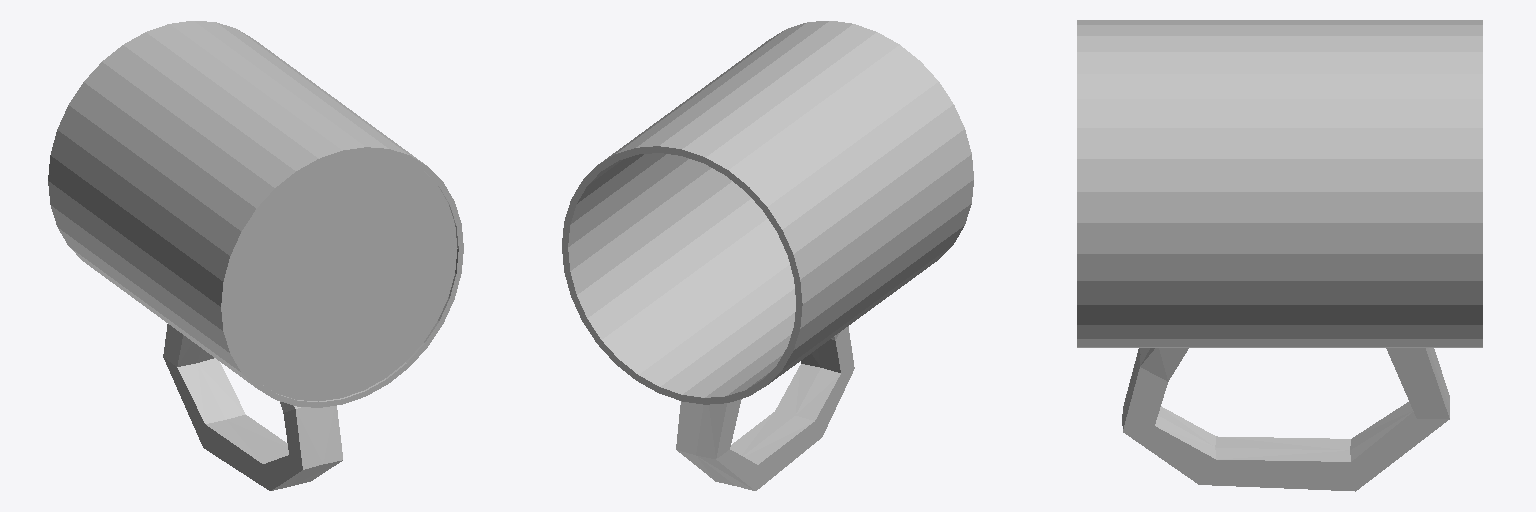
robot.urdf — mug_2_decomp:
<robot xmlns:drake="drake.mit.edu" name="mug_2_decomp">
  <link name="mug_2_decomp_body_link">
    <inertial>
      <origin xyz="4.60E-02 4.13E-02 -1.29E-01" rpy="0 0 0"/>
      <mass value="2.00E-01"/>
      <inertia ixx="3.4926E-04" ixy="-4.9590E-13" ixz="-2.1332E-11" iyy="2.9479E-04" iyz="-9.9779E-06" izz="2.4863E-04"/>
    </inertial>
    <visual>
      <origin xyz="0 0 0" rpy="0 0 0"/>
      <geometry>
        <mesh filename="mug_2_decomp_visual.obj" scale="1.0000E+00 1.0000E+00 1.0000E+00"/>
      </geometry>
      <material name="">
        <color rgba="8.00E-01 8.00E-01 8.00E-01 1.00E+00"/>
      </material>
    </visual>
    <collision>
      <origin xyz="0 0 0" rpy="0 0 0"/>
      <geometry>
        <mesh filename="mug_2_decomp_convex_piece_0.obj" scale="1.0000E+00 1.0000E+00 1.0000E+00">
          <drake:declare_convex/>
        </mesh>
      </geometry>
    </collision>
    <collision>
      <origin xyz="0 0 0" rpy="0 0 0"/>
      <geometry>
        <mesh filename="mug_2_decomp_convex_piece_1.obj" scale="1.0000E+00 1.0000E+00 1.0000E+00">
          <drake:declare_convex/>
        </mesh>
      </geometry>
    </collision>
    <collision>
      <origin xyz="0 0 0" rpy="0 0 0"/>
      <geometry>
        <mesh filename="mug_2_decomp_convex_piece_2.obj" scale="1.0000E+00 1.0000E+00 1.0000E+00">
          <drake:declare_convex/>
        </mesh>
      </geometry>
    </collision>
    <collision>
      <origin xyz="0 0 0" rpy="0 0 0"/>
      <geometry>
        <mesh filename="mug_2_decomp_convex_piece_3.obj" scale="1.0000E+00 1.0000E+00 1.0000E+00">
          <drake:declare_convex/>
        </mesh>
      </geometry>
    </collision>
    <collision>
      <origin xyz="0 0 0" rpy="0 0 0"/>
      <geometry>
        <mesh filename="mug_2_decomp_convex_piece_4.obj" scale="1.0000E+00 1.0000E+00 1.0000E+00">
          <drake:declare_convex/>
        </mesh>
      </geometry>
    </collision>
    <collision>
      <origin xyz="0 0 0" rpy="0 0 0"/>
      <geometry>
        <mesh filename="mug_2_decomp_convex_piece_5.obj" scale="1.0000E+00 1.0000E+00 1.0000E+00">
          <drake:declare_convex/>
        </mesh>
      </geometry>
    </collision>
    <collision>
      <origin xyz="0 0 0" rpy="0 0 0"/>
      <geometry>
        <mesh filename="mug_2_decomp_convex_piece_6.obj" scale="1.0000E+00 1.0000E+00 1.0000E+00">
          <drake:declare_convex/>
        </mesh>
      </geometry>
    </collision>
    <collision>
      <origin xyz="0 0 0" rpy="0 0 0"/>
      <geometry>
        <mesh filename="mug_2_decomp_convex_piece_7.obj" scale="1.0000E+00 1.0000E+00 1.0000E+00">
          <drake:declare_convex/>
        </mesh>
      </geometry>
    </collision>
    <collision>
      <origin xyz="0 0 0" rpy="0 0 0"/>
      <geometry>
        <mesh filename="mug_2_decomp_convex_piece_8.obj" scale="1.0000E+00 1.0000E+00 1.0000E+00">
          <drake:declare_convex/>
        </mesh>
      </geometry>
    </collision>
    <collision>
      <origin xyz="0 0 0" rpy="0 0 0"/>
      <geometry>
        <mesh filename="mug_2_decomp_convex_piece_9.obj" scale="1.0000E+00 1.0000E+00 1.0000E+00">
          <drake:declare_convex/>
        </mesh>
      </geometry>
    </collision>
    <collision>
      <origin xyz="0 0 0" rpy="0 0 0"/>
      <geometry>
        <mesh filename="mug_2_decomp_convex_piece_10.obj" scale="1.0000E+00 1.0000E+00 1.0000E+00">
          <drake:declare_convex/>
        </mesh>
      </geometry>
    </collision>
    <collision>
      <origin xyz="0 0 0" rpy="0 0 0"/>
      <geometry>
        <mesh filename="mug_2_decomp_convex_piece_11.obj" scale="1.0000E+00 1.0000E+00 1.0000E+00">
          <drake:declare_convex/>
        </mesh>
      </geometry>
    </collision>
    <collision>
      <origin xyz="0 0 0" rpy="0 0 0"/>
      <geometry>
        <mesh filename="mug_2_decomp_convex_piece_12.obj" scale="1.0000E+00 1.0000E+00 1.0000E+00">
          <drake:declare_convex/>
        </mesh>
      </geometry>
    </collision>
    <collision>
      <origin xyz="0 0 0" rpy="0 0 0"/>
      <geometry>
        <mesh filename="mug_2_decomp_convex_piece_13.obj" scale="1.0000E+00 1.0000E+00 1.0000E+00">
          <drake:declare_convex/>
        </mesh>
      </geometry>
    </collision>
    <collision>
      <origin xyz="0 0 0" rpy="0 0 0"/>
      <geometry>
        <mesh filename="mug_2_decomp_convex_piece_14.obj" scale="1.0000E+00 1.0000E+00 1.0000E+00">
          <drake:declare_convex/>
        </mesh>
      </geometry>
    </collision>
  </link>
</robot>

--- Facts derived from the render (not from the file) ---
The picture shows the robot from 3 angles, left to right: view 1: azimuth 30°, elevation 25°; view 2: azimuth 150°, elevation 25°; view 3: azimuth 270°, elevation 25°; orthographic projection.
Model mug_2_decomp with 1 links and 0 joints (none), rooted at mug_2_decomp_body_link, posed all joints at 0.
Visible links, largest first — view 1: mug_2_decomp_body_link; view 2: mug_2_decomp_body_link; view 3: mug_2_decomp_body_link.
Link boxes in pixels (box(x1,y1,x2,y2)): mug_2_decomp_body_link: box(48, 21, 463, 490); mug_2_decomp_body_link: box(562, 21, 973, 490); mug_2_decomp_body_link: box(1077, 20, 1482, 491).
Bounding box of the posed robot: 0.073 × 0.0901 × 0.109 m (x, y, z).
1 mesh visuals loaded from 1 distinct referenced files (1 OBJ).